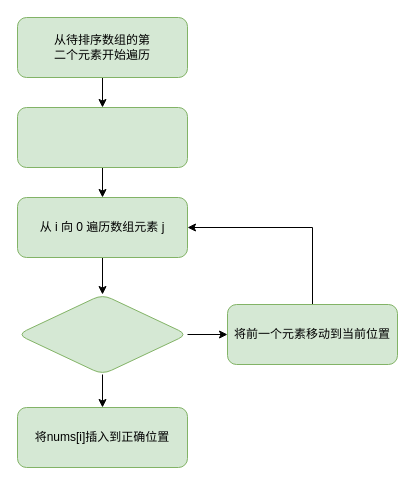
Some shapes in this 415 by 485 pixel diagram are drawn without their labels. Here are the shapes that lost their labels. From the top down, the centre of each, then its label:
At pixel 102 137: "暂存当前元素 tmp = num[i]".
At pixel 102 334: "当前元素下标 j > 0 且 nums[j - 1] > tmp".
